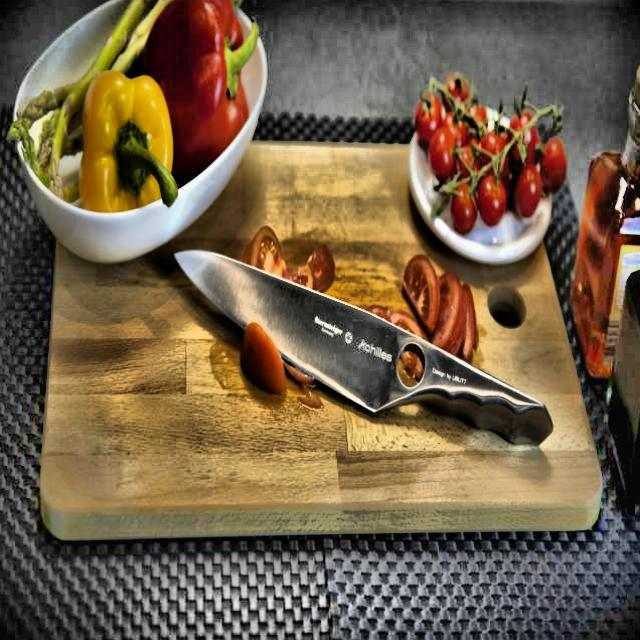knife: (173, 232, 563, 461)
